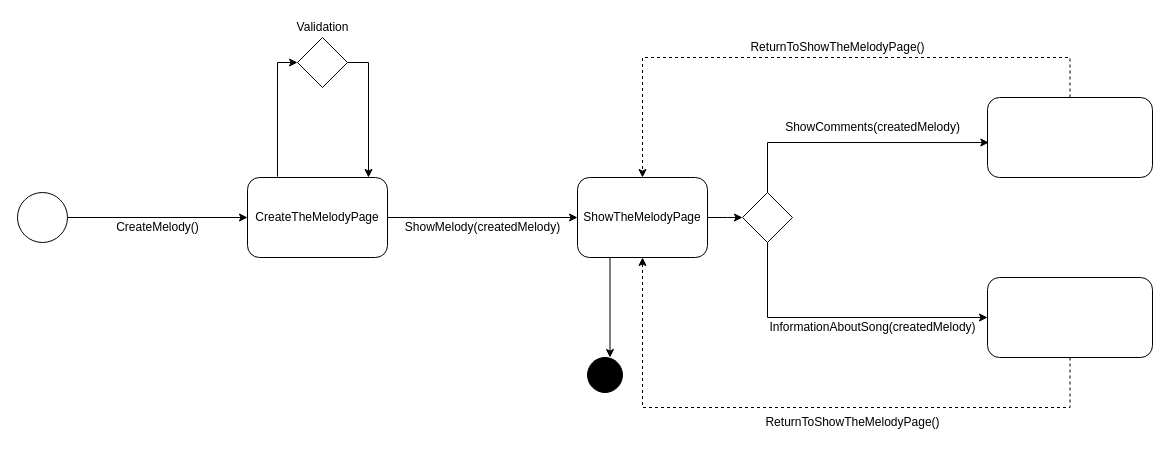
This 1170x449 diagram has some shape labels left out. The shapes that lost their labels are listed below. From the top down, each one's centre as x and y in pixels, then its label:
[1069,137]: ShowTheCommentsPage
[1069,317]: IKnowThisSongPage
